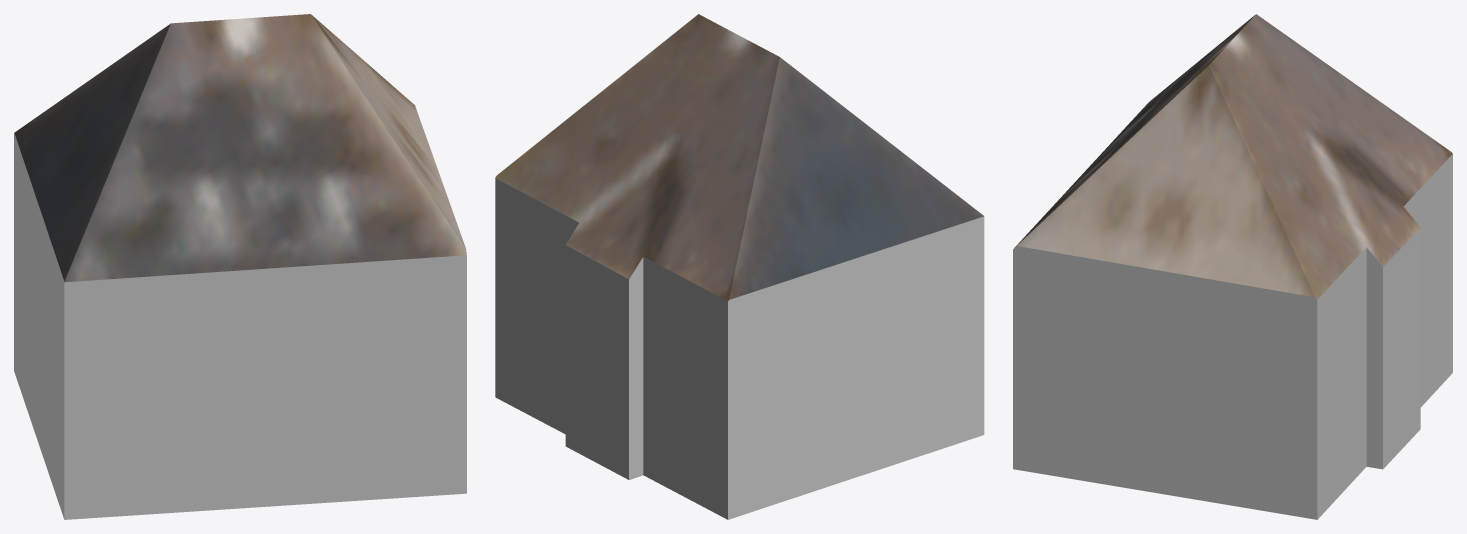
The model's file is DEBW_0010007TxcA.gltf.
3 views of the same model, side by side, from view 1: azimuth 30°, elevation 25°; view 2: azimuth 150°, elevation 25°; view 3: azimuth 270°, elevation 25° (orthographic). The views are drawn at different scales.
Visible parts, largest first — view 1: Z_UP; view 2: Z_UP; view 3: Z_UP.
Boxes of the visible parts, x1,y1,x2,y2 form: Z_UP: (14,14,466,519); Z_UP: (495,14,984,519); Z_UP: (1013,14,1452,519).
Size of the model in its own units: 14.75 by 13.21 by 13.8.
Materials: 2 (1 with a texture image).
